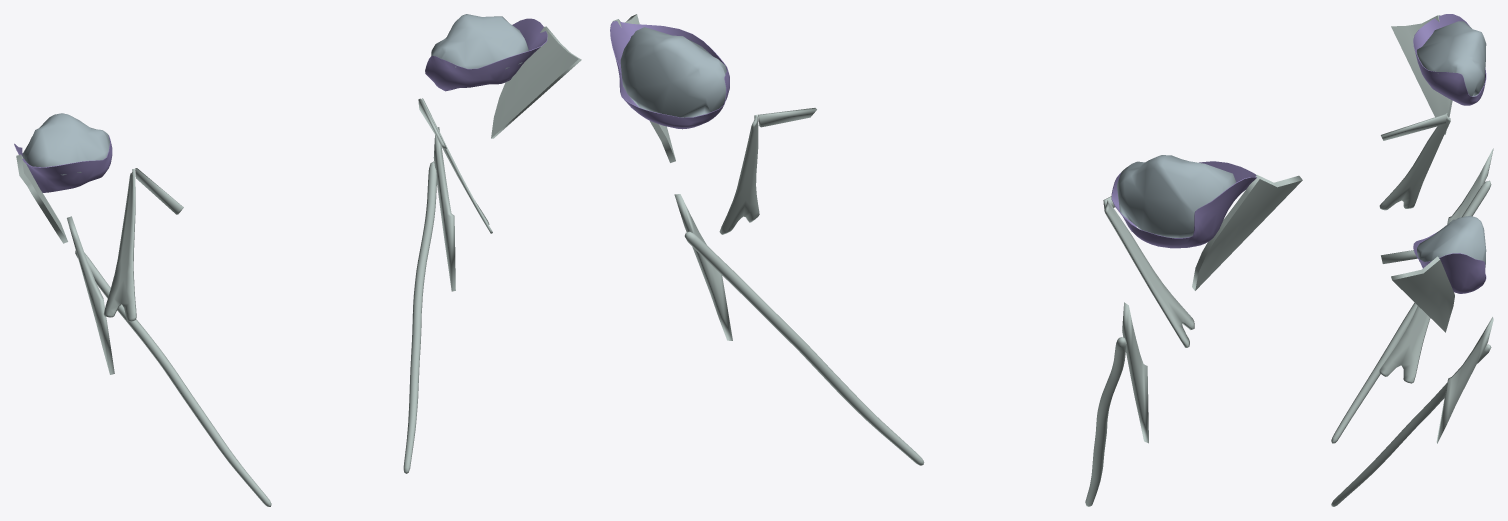
Rendered from joints-head.glb.
3 renders of one model, left to right at view 1: azimuth 30°, elevation 25°; view 2: azimuth 150°, elevation 25°; view 3: azimuth 270°, elevation 25°, orthographic. The views are drawn at different scales.
Parts seen in each view (by area): view 1: joint-articular-disc-of-temporomandibular-joint-l, joint-lateral-temporomandibular-ligament-r, joint-articular-disc-of-temporomandibular-joint-r, joint-articular-capsule-of-temporomandibular-joint-l, joint-stylohyoid-ligament-l, joint-stylohyoid-ligament-r, joint-sphenomandibular-ligament-r, joint-articular-capsule-of-temporomandibular-joint-r, joint-stylomandibular-ligament-r, joint-stylomandibular-ligament-l, joint-lateral-temporomandibular-ligament-l; view 2: joint-articular-disc-of-temporomandibular-joint-l, joint-articular-disc-of-temporomandibular-joint-r, joint-lateral-temporomandibular-ligament-l, joint-stylohyoid-ligament-l, joint-articular-capsule-of-temporomandibular-joint-r, joint-articular-capsule-of-temporomandibular-joint-l, joint-sphenomandibular-ligament-r, joint-sphenomandibular-ligament-l, joint-stylohyoid-ligament-r, joint-stylomandibular-ligament-r, joint-stylomandibular-ligament-l; view 3: joint-articular-disc-of-temporomandibular-joint-r, joint-lateral-temporomandibular-ligament-r, joint-articular-disc-of-temporomandibular-joint-l, joint-articular-capsule-of-temporomandibular-joint-r, joint-sphenomandibular-ligament-l, joint-sphenomandibular-ligament-r, joint-stylohyoid-ligament-r, joint-articular-capsule-of-temporomandibular-joint-l, joint-lateral-temporomandibular-ligament-l, joint-stylohyoid-ligament-l, joint-stylomandibular-ligament-l, joint-stylomandibular-ligament-r (+2 smaller).
Part boxes in pixels (x1,y1,x2,y2): joint-articular-disc-of-temporomandibular-joint-l: (431, 14, 528, 69); joint-lateral-temporomandibular-ligament-r: (491, 26, 581, 138); joint-articular-disc-of-temporomandibular-joint-r: (22, 113, 109, 175); joint-articular-capsule-of-temporomandibular-joint-l: (425, 18, 547, 91); joint-stylohyoid-ligament-l: (403, 161, 436, 473); joint-stylohyoid-ligament-r: (75, 250, 271, 506); joint-sphenomandibular-ligament-r: (104, 169, 136, 321); joint-articular-capsule-of-temporomandibular-joint-r: (14, 135, 112, 192); joint-stylomandibular-ligament-r: (67, 216, 114, 374); joint-stylomandibular-ligament-l: (433, 127, 455, 291); joint-lateral-temporomandibular-ligament-l: (16, 154, 67, 243); joint-articular-disc-of-temporomandibular-joint-l: (620, 27, 726, 117); joint-articular-disc-of-temporomandibular-joint-r: (1117, 155, 1236, 237); joint-lateral-temporomandibular-ligament-l: (1192, 175, 1302, 290); joint-stylohyoid-ligament-l: (684, 231, 924, 465); joint-articular-capsule-of-temporomandibular-joint-r: (1111, 161, 1256, 248); joint-articular-capsule-of-temporomandibular-joint-l: (610, 21, 729, 129); joint-sphenomandibular-ligament-r: (1104, 200, 1194, 347); joint-sphenomandibular-ligament-l: (719, 114, 759, 234); joint-stylohyoid-ligament-r: (1085, 337, 1126, 506); joint-stylomandibular-ligament-r: (1122, 302, 1148, 443); joint-stylomandibular-ligament-l: (674, 194, 732, 340); joint-articular-disc-of-temporomandibular-joint-r: (1417, 21, 1486, 96); joint-lateral-temporomandibular-ligament-r: (1391, 256, 1454, 332); joint-articular-disc-of-temporomandibular-joint-l: (1417, 216, 1486, 267); joint-articular-capsule-of-temporomandibular-joint-r: (1413, 14, 1486, 105); joint-sphenomandibular-ligament-l: (1379, 306, 1430, 383); joint-sphenomandibular-ligament-r: (1379, 113, 1450, 210); joint-stylohyoid-ligament-r: (1331, 180, 1491, 443); joint-articular-capsule-of-temporomandibular-joint-l: (1413, 232, 1486, 293); joint-lateral-temporomandibular-ligament-l: (1391, 15, 1452, 134); joint-stylohyoid-ligament-l: (1331, 344, 1491, 506); joint-stylomandibular-ligament-l: (1436, 317, 1493, 443); joint-stylomandibular-ligament-r: (1447, 148, 1493, 224).
Size of the model in its own units: 0.1204 by 0.0776 by 0.0326.
